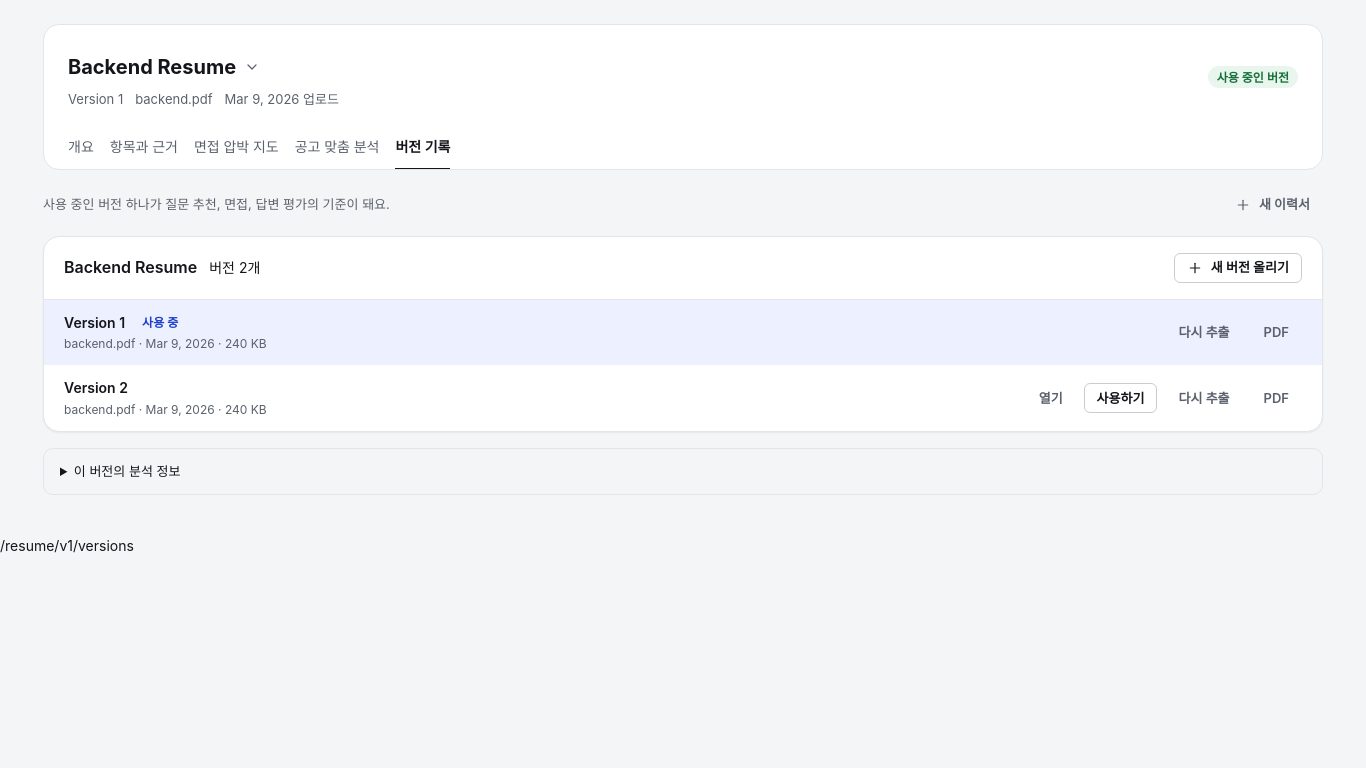
Test: resume hub › manages versions: re-extract, activate another, and create a resume in a dialog
Expected: the number of list items is 2, x1=44 y1=300 x2=1322 y2=365; x1=64 y1=379 x2=1302 y2=417
Click the button "사용하기" at (1120, 398), box x1=1084 y1=383 x2=1157 y2=413
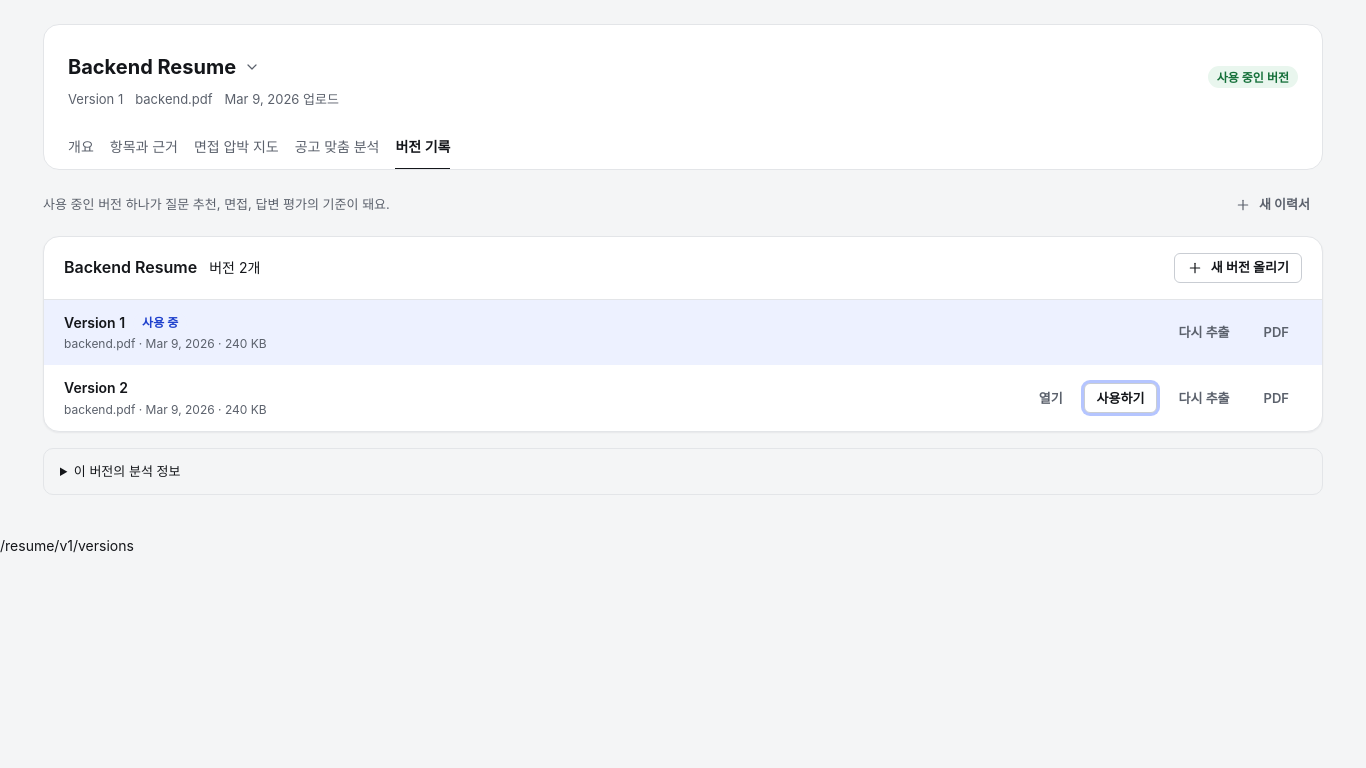
Click the 1st button "다시 추출" at (1204, 333), box x1=1166 y1=318 x2=1243 y2=348
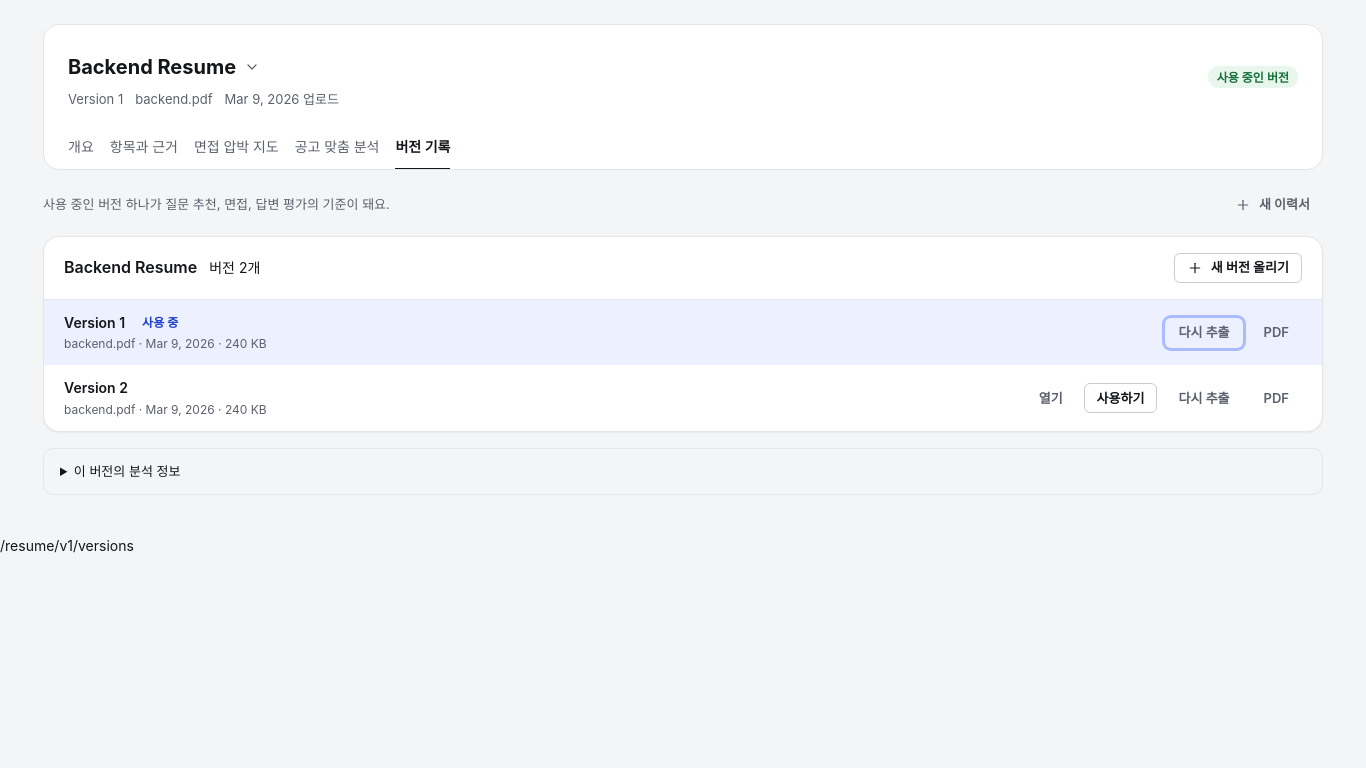
Click the button "새 이력서" at (1272, 205), box x1=1222 y1=190 x2=1323 y2=220
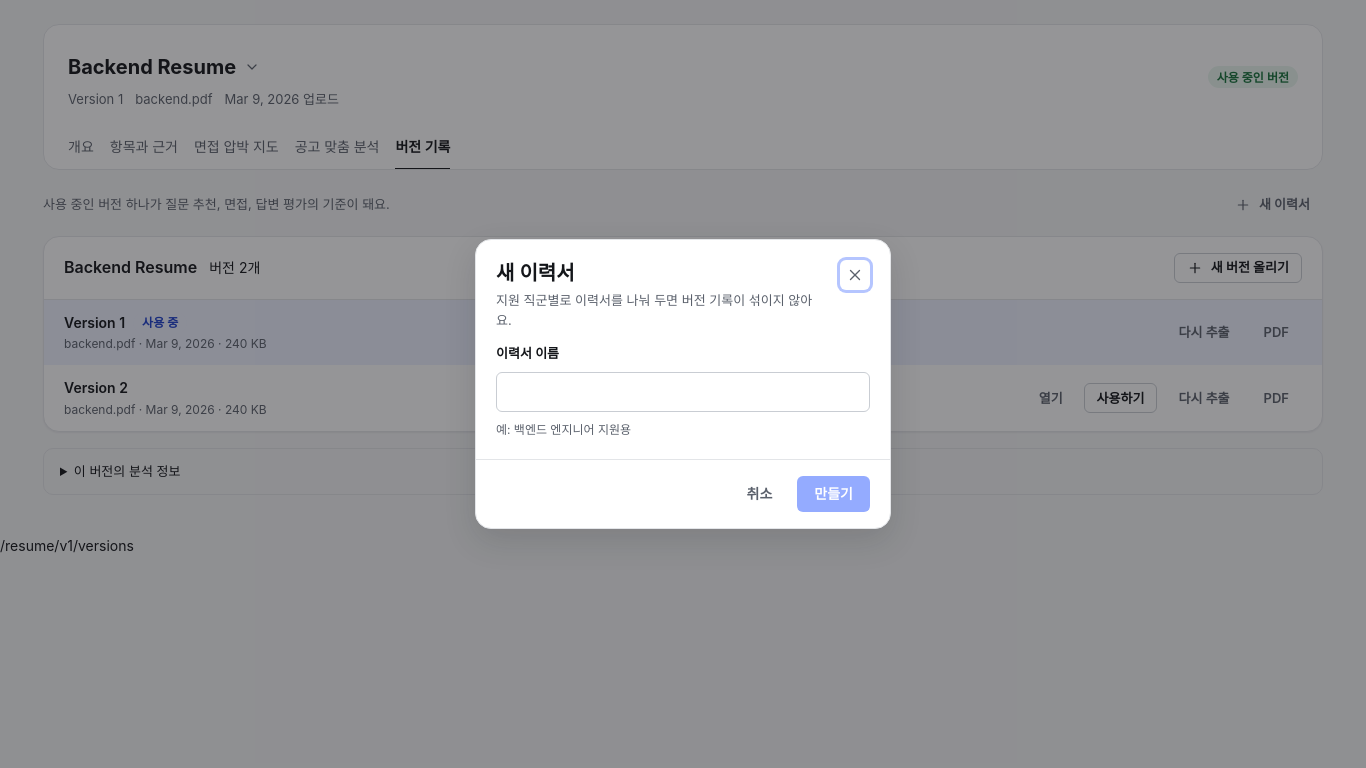
Expected: the dialog "새 이력서" is shown, x1=475 y1=238 x2=891 y2=530
